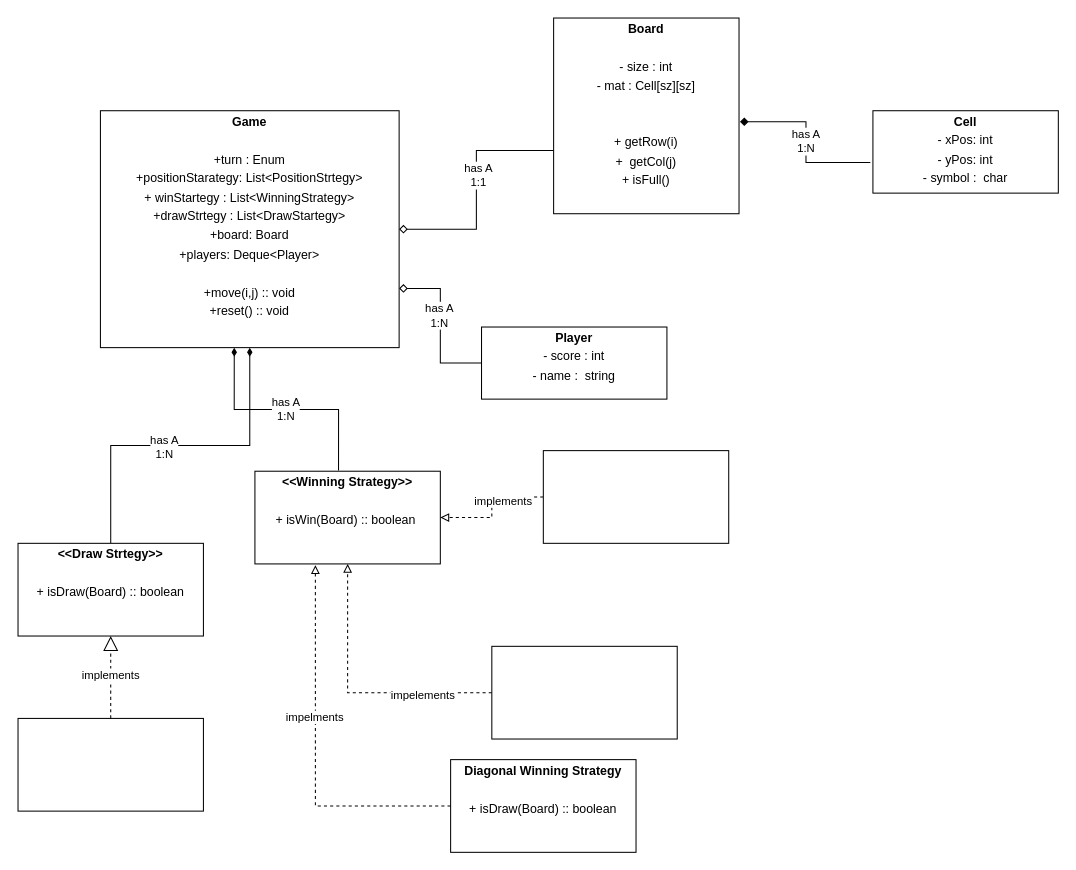
The diagram is 1076 pixels wide and 870 high, and some of its shapes have lost their labels. The centre of each missing label's shape, as x and y in pixels:
Column Winning Strategy + isDraw(Board) :: boolean: pixel 584 692
My Draw Strategy + isDraw(Board) :: boolean: pixel 110 764
Row Winning Strategy + isDraw(Board) :: boolean: pixel 635 496
